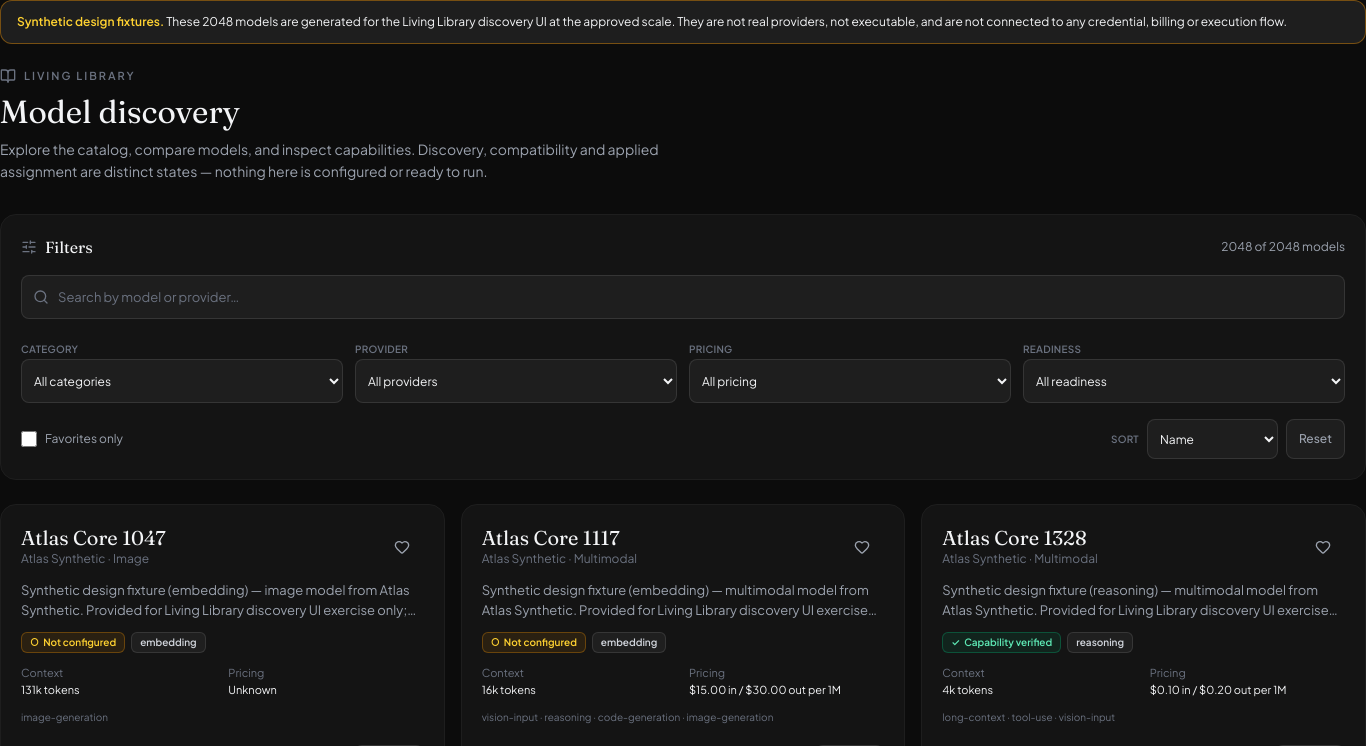
Living Library (UD-2C) › resets filters via the reset button
This screenshot has width=1366, height=746.
Type "zzzz-no-match" into the search field with placeholder "Search by model or provider…" at (683, 297), box [21,275,1345,319]
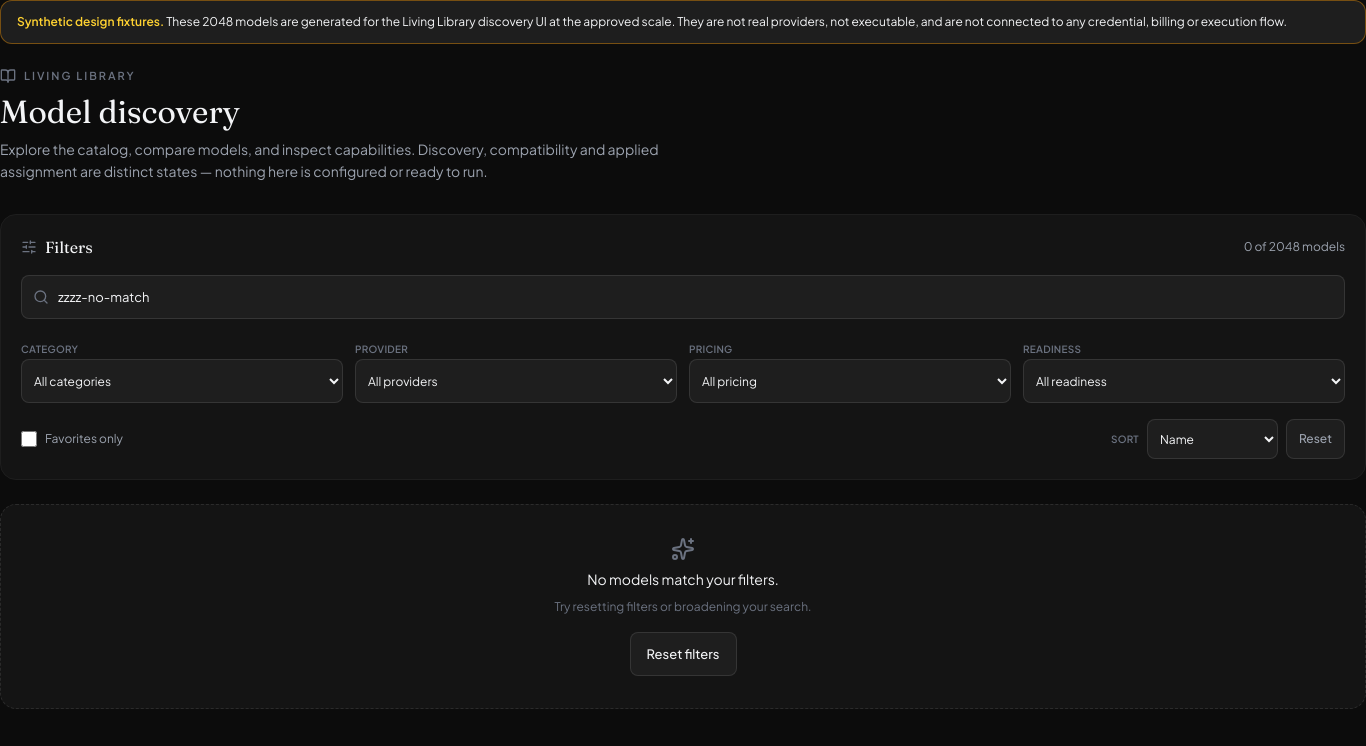
Click the button "Reset" at (1316, 439), box [1286,419,1345,459]
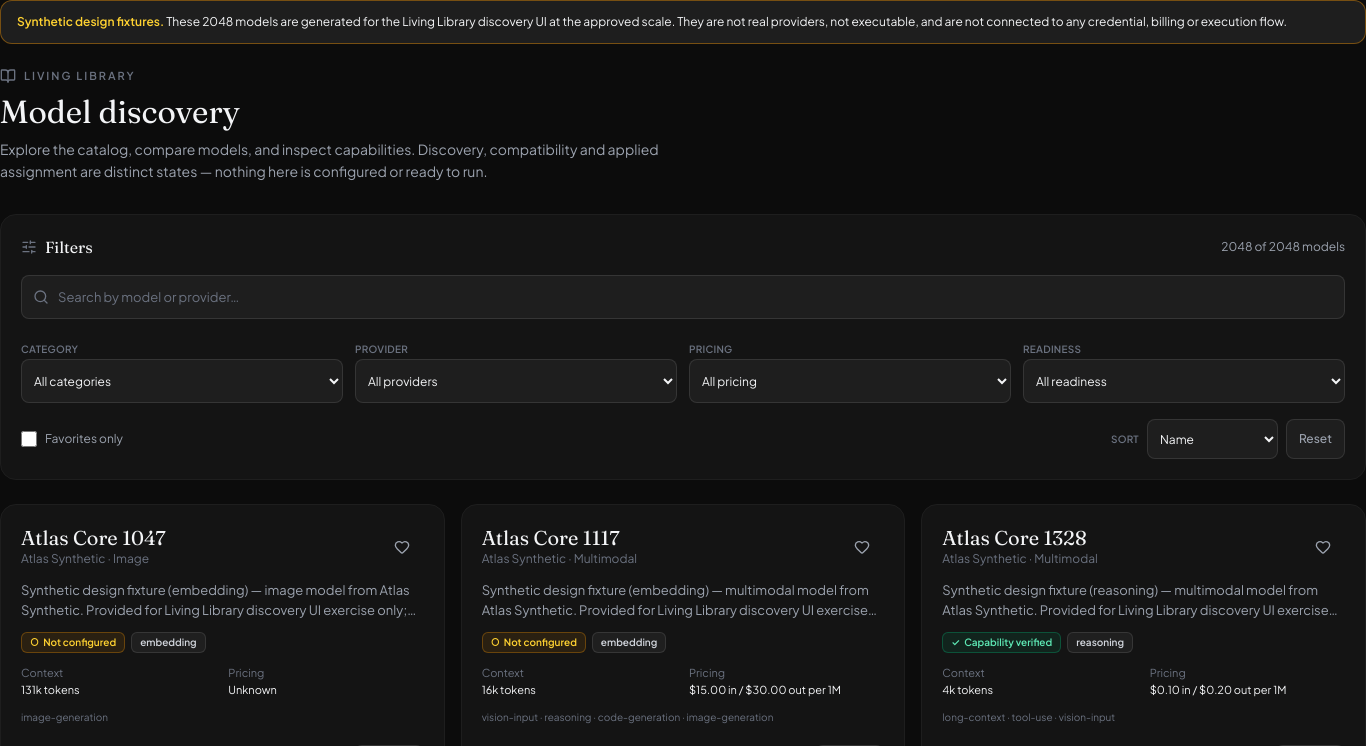
Check: the search field with placeholder "Search by model or provider…" is empty, box [21,275,1345,319]
